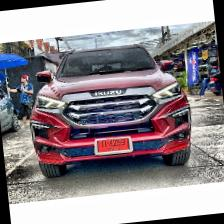NON-EV: (24, 39, 198, 181)
